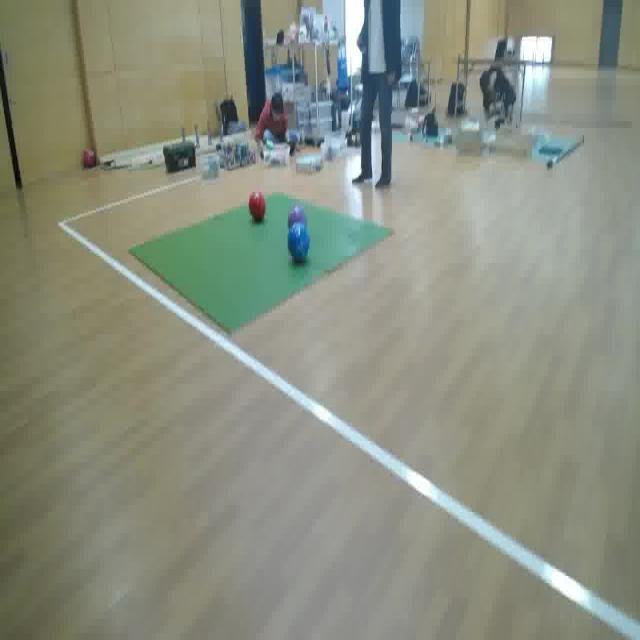blue_ball: (285, 223, 310, 265)
purple_ball: (286, 204, 309, 233)
red_ball: (246, 186, 267, 223)
